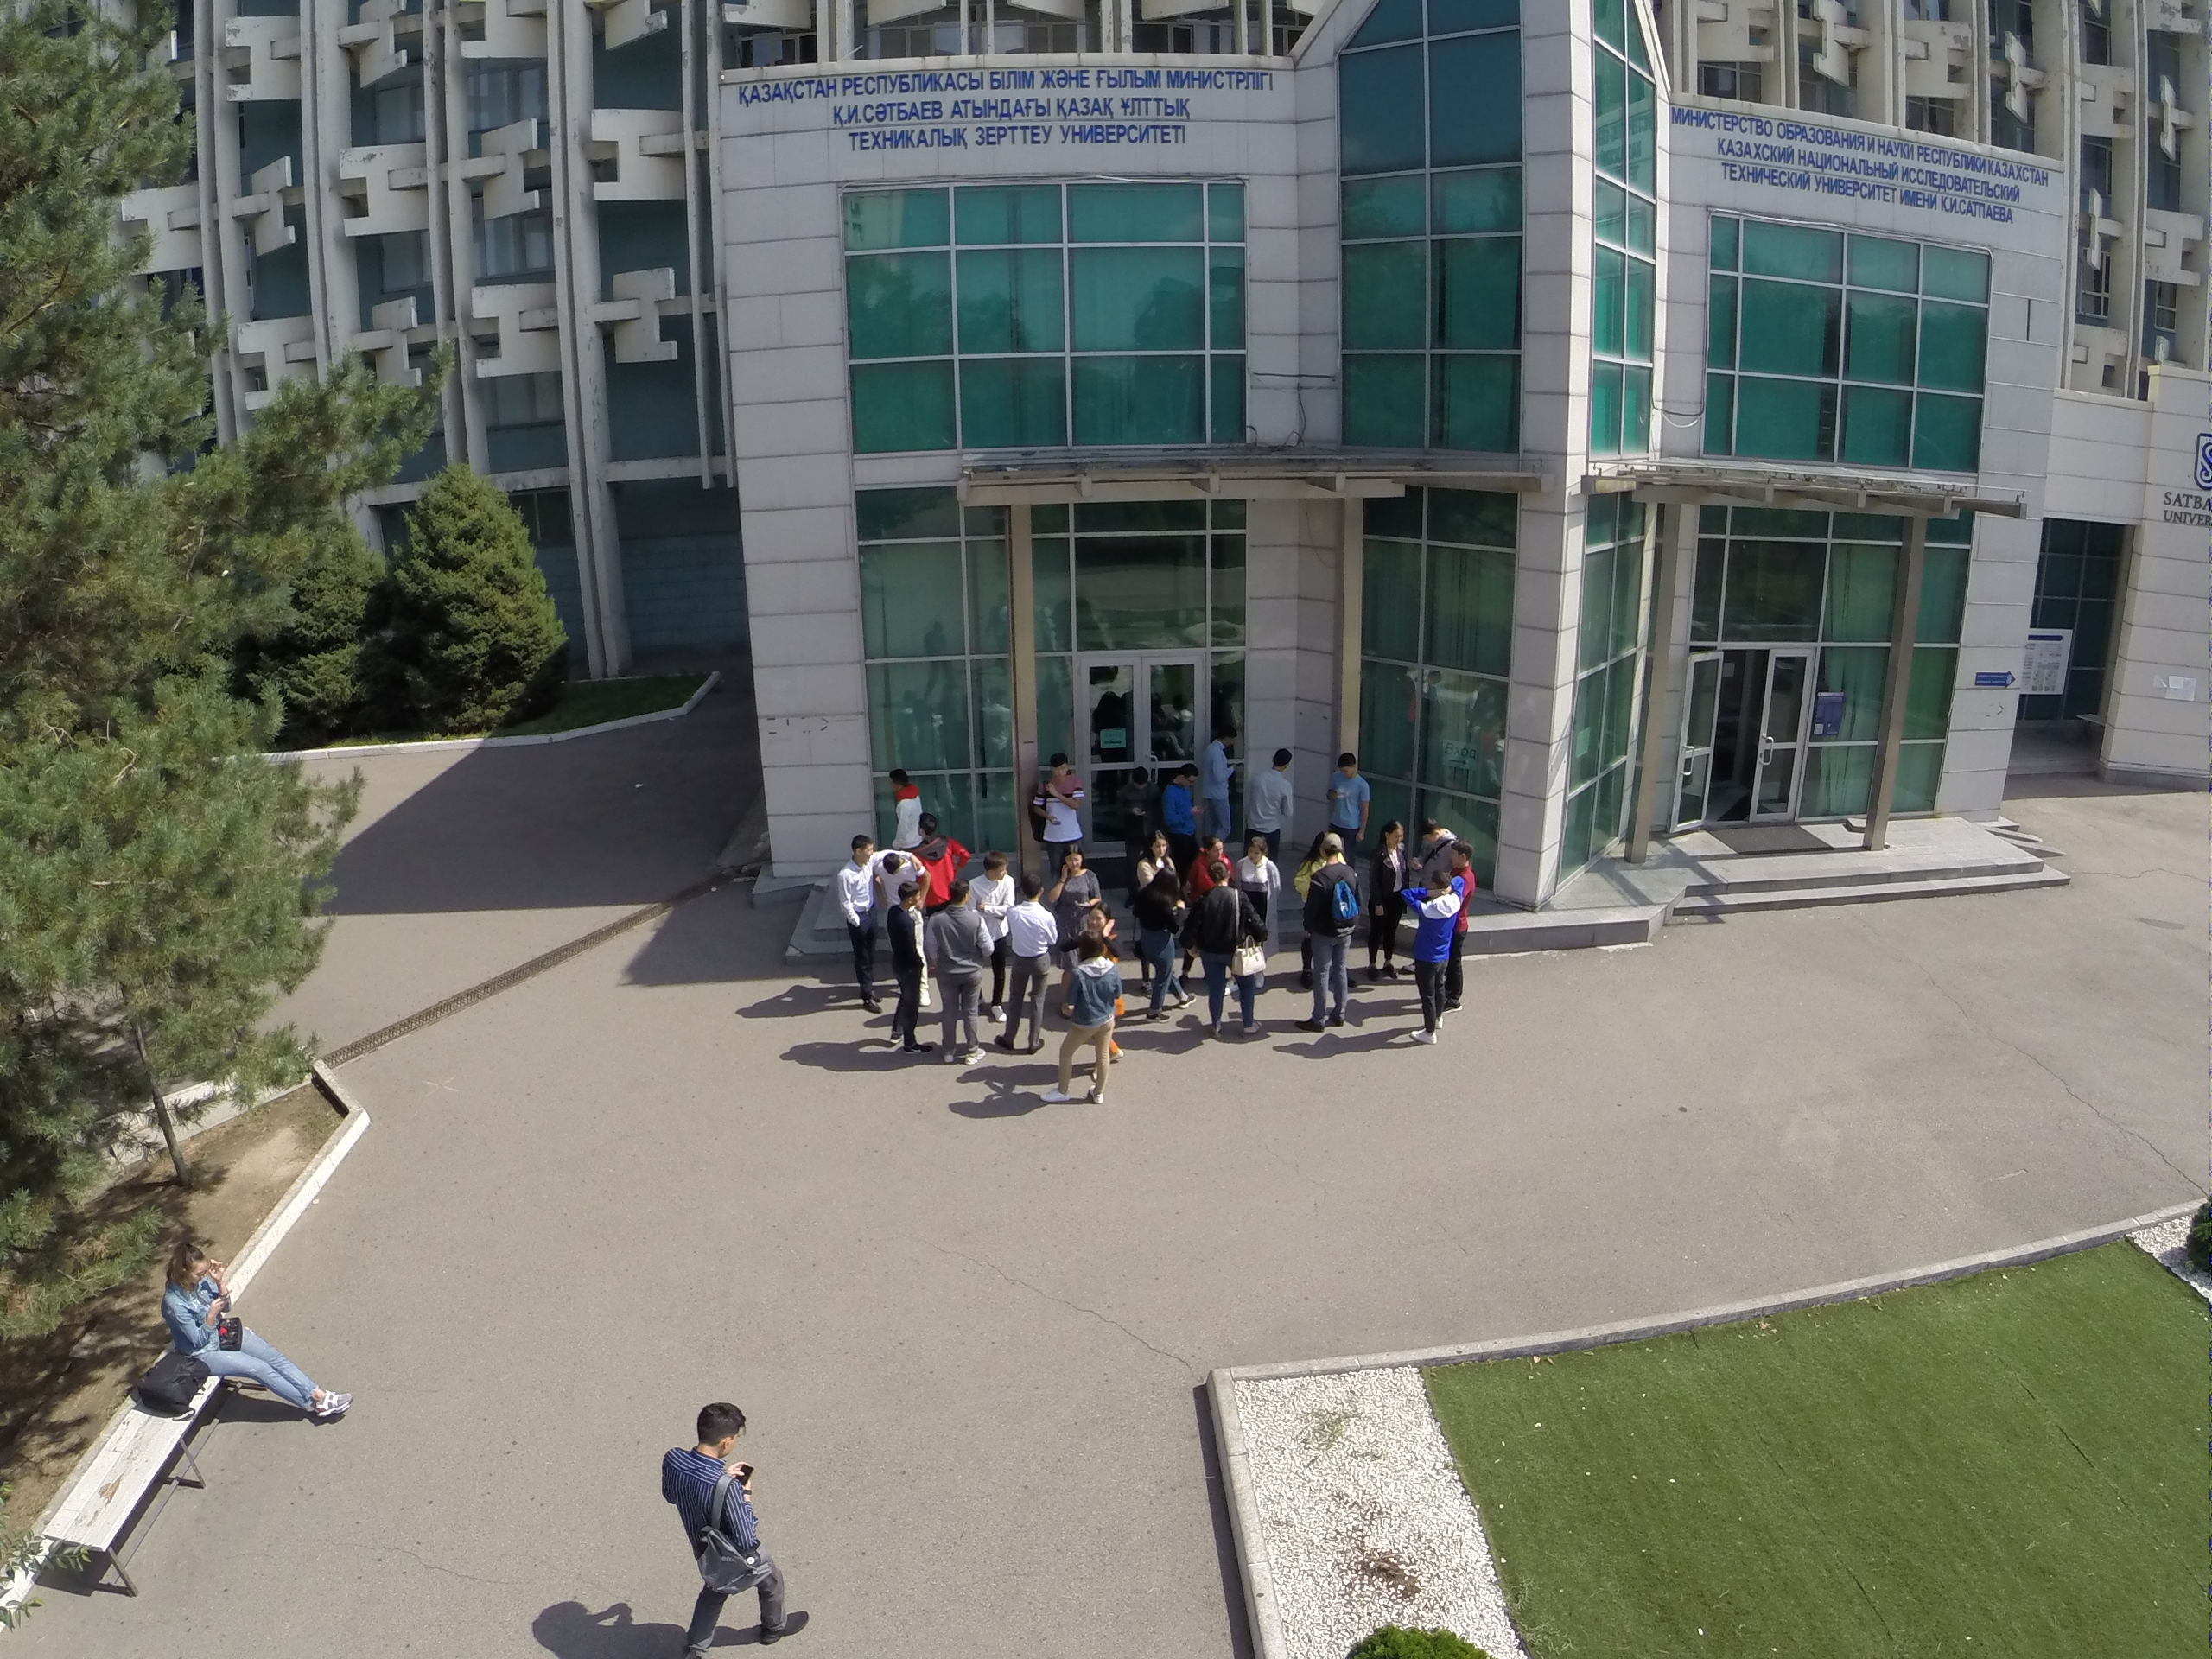person: (145, 1246, 372, 1444), (677, 1368, 806, 1659), (921, 880, 1001, 1071), (1181, 858, 1264, 1033), (823, 824, 893, 1007), (1128, 873, 1196, 1017), (1060, 938, 1114, 1109), (1006, 878, 1052, 1055), (905, 805, 968, 909), (888, 885, 925, 1060), (1193, 729, 1245, 849), (1373, 825, 1412, 979), (1239, 837, 1276, 995), (1033, 747, 1094, 847), (1418, 871, 1447, 1039), (1322, 747, 1368, 856), (1452, 846, 1480, 1000), (979, 855, 1014, 981), (1116, 772, 1160, 863), (1162, 765, 1202, 849), (1260, 748, 1294, 836), (879, 758, 914, 846), (1419, 825, 1449, 882), (1140, 834, 1174, 875)
